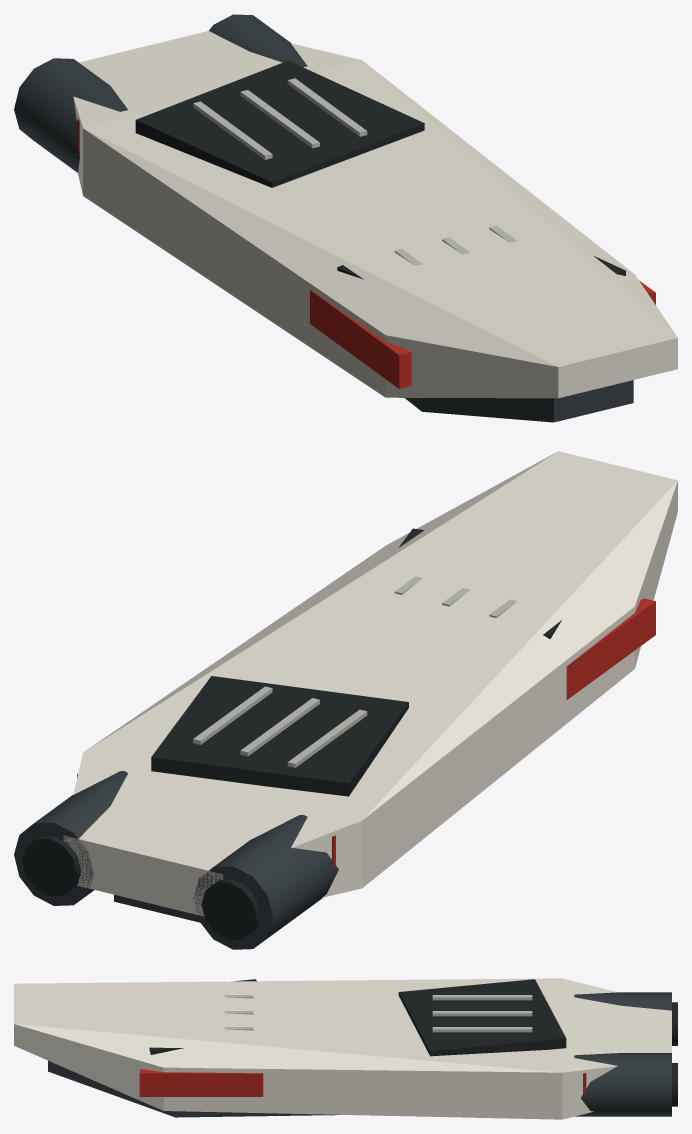
The picture shows the model from 3 angles, top to bottom: view 1: azimuth 30°, elevation 25°; view 2: azimuth 150°, elevation 25°; view 3: azimuth 270°, elevation 25°; orthographic projection. The views are drawn at different scales.
Visible parts, largest first — view 1: hoverboard-fleet-armor, hoverboard-fleet-rubber, hoverboard-fleet-machine, hoverboard-fleet-red, hoverboard-fleet-edge; view 2: hoverboard-fleet-armor, hoverboard-fleet-rubber, hoverboard-fleet-machine, hoverboard-fleet-red, hoverboard-fleet-edge; view 3: hoverboard-fleet-armor, hoverboard-fleet-rubber, hoverboard-fleet-machine, hoverboard-fleet-red, hoverboard-fleet-edge.
Boxes of the visible parts, x1,y1,x2,y2 form: hoverboard-fleet-armor: (73,31,677,398); hoverboard-fleet-rubber: (135,60,625,279); hoverboard-fleet-machine: (14,14,633,422); hoverboard-fleet-red: (77,119,655,388); hoverboard-fleet-edge: (193,78,516,265); hoverboard-fleet-armor: (63,451,677,916); hoverboard-fleet-rubber: (22,528,561,939); hoverboard-fleet-machine: (14,771,338,949); hoverboard-fleet-red: (77,598,655,866); hoverboard-fleet-edge: (193,576,517,767); hoverboard-fleet-armor: (14,978,671,1119); hoverboard-fleet-rubber: (149,979,677,1106); hoverboard-fleet-machine: (48,992,671,1117); hoverboard-fleet-red: (139,1069,586,1096); hoverboard-fleet-edge: (224,995,532,1032).
Size of the model in its own units: 2.92 by 1.25 by 8.68.
